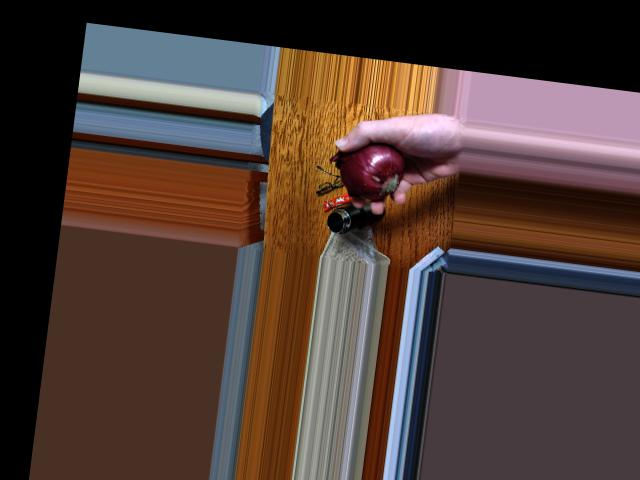onion: (339, 145, 392, 197)
